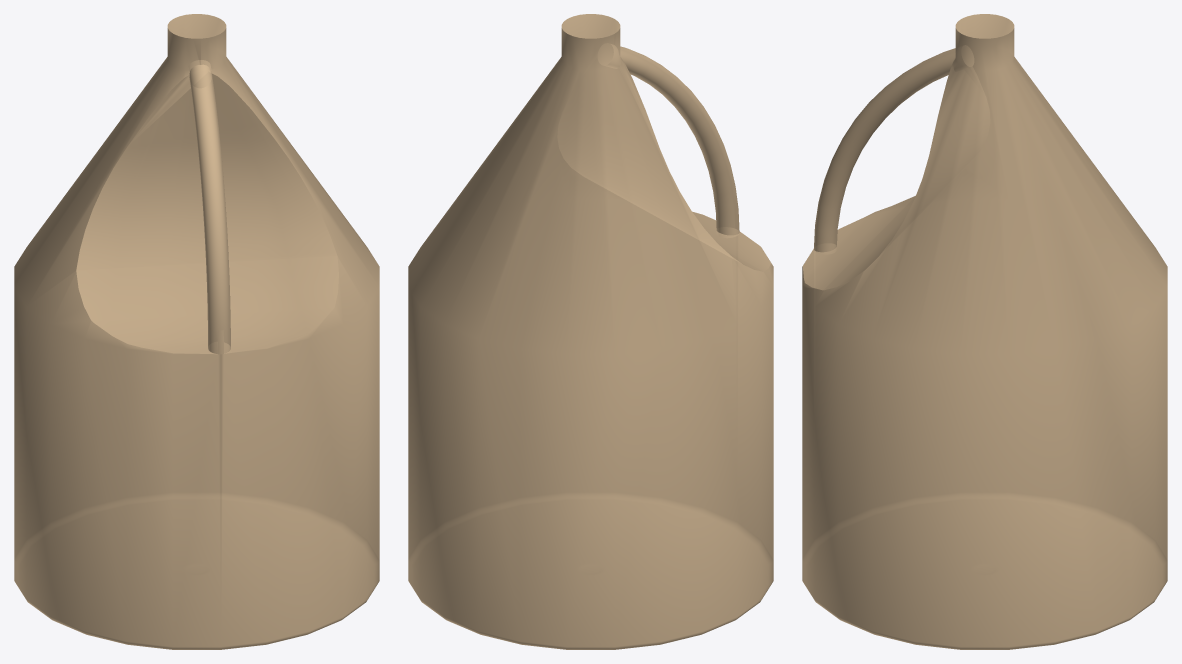
3 renders of one model, left to right at view 1: azimuth 30°, elevation 25°; view 2: azimuth 150°, elevation 25°; view 3: azimuth 270°, elevation 25°, orthographic.
Parts seen in each view (by area): view 1: mesh1_mesh1-geometry; view 2: mesh1_mesh1-geometry; view 3: mesh1_mesh1-geometry.
Boxes of the visible parts, box(x1,y1,x2,y2) form: mesh1_mesh1-geometry: box(14, 14, 379, 649); mesh1_mesh1-geometry: box(408, 14, 773, 649); mesh1_mesh1-geometry: box(802, 14, 1167, 649).
Bounding box in the file's own units: 0.4594 × 0.7602 × 0.4594.
